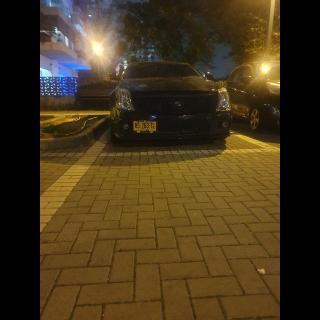LicensePlate: (134, 122, 156, 129)
